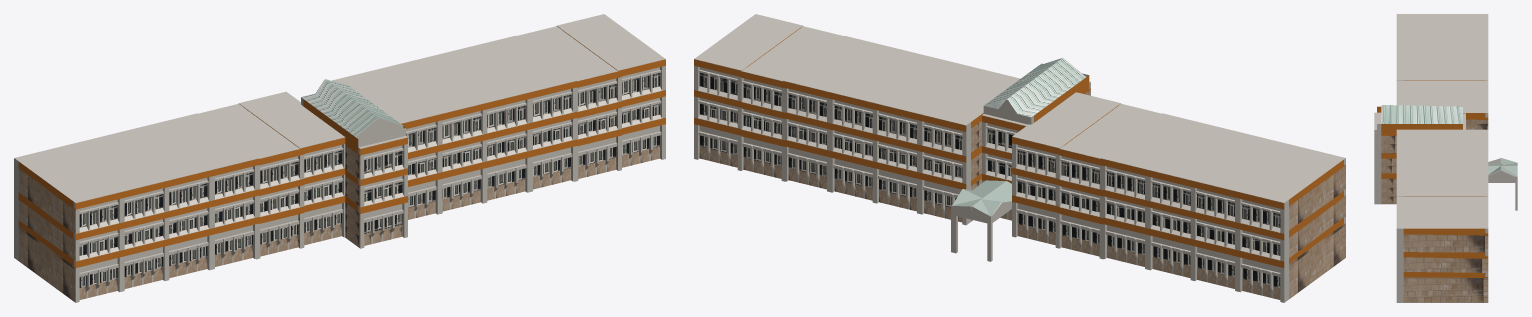
Rendered from civilf.fbx.
3 views of the same model, side by side, from view 1: azimuth 30°, elevation 25°; view 2: azimuth 150°, elevation 25°; view 3: azimuth 270°, elevation 25° (orthographic). The views are drawn at different scales.
Parts seen in each view (by area): view 1: box.000, box.005, box.006; view 2: box.000, box.005, box.006; view 3: box.005, box.000, box.006.
Boxes of the visible parts, box(x1,y1,x2,y2) form: box.000: box(14, 91, 345, 302); box.005: box(332, 14, 665, 219); box.006: box(301, 79, 407, 248); box.000: box(1012, 92, 1345, 302); box.005: box(694, 14, 1020, 225); box.006: box(951, 58, 1090, 261); box.005: box(1396, 129, 1488, 302); box.000: box(1396, 14, 1488, 129); box.006: box(1374, 105, 1517, 210).
Bounding box in the file's own units: 4957 × 1061 × 1401.
